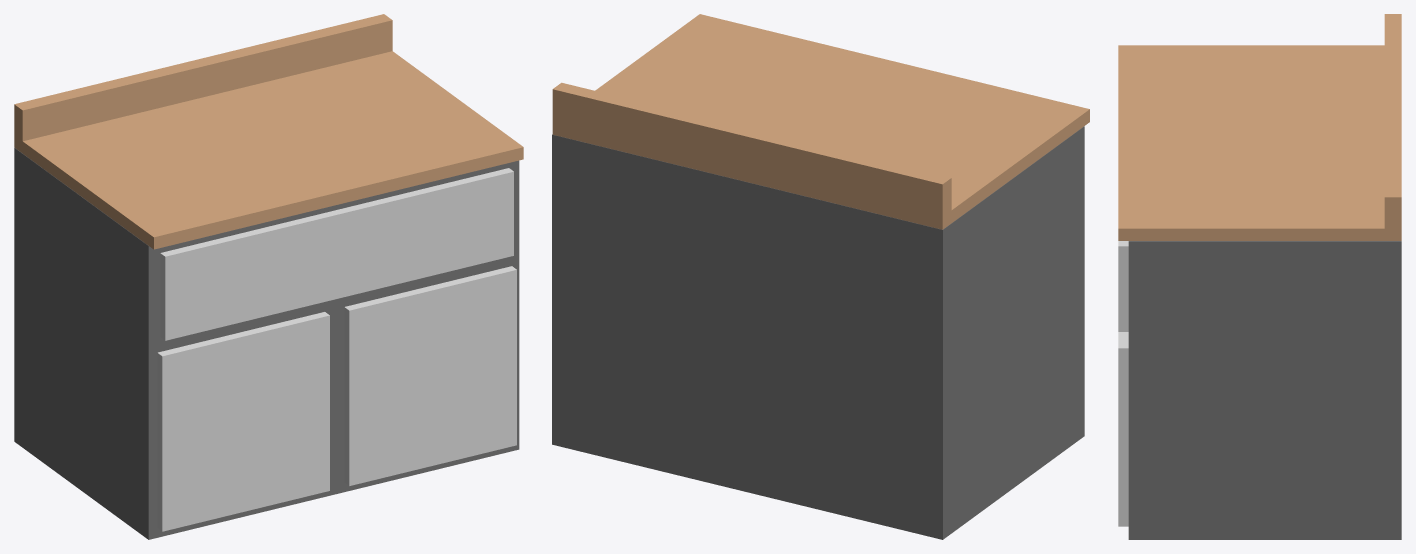
Rendered from Counter2.fbx.
3 renders of one model, left to right at view 1: azimuth 30°, elevation 25°; view 2: azimuth 150°, elevation 25°; view 3: azimuth 270°, elevation 25°, orthographic. The views are drawn at different scales.
Visible parts, largest first — view 1: Cube.009; view 2: Cube.009; view 3: Cube.009.
Part boxes in pixels (x1,y1,x2,y2): Cube.009: (14, 14, 523, 539); Cube.009: (552, 14, 1089, 539); Cube.009: (1118, 14, 1401, 539).
Size of the model in its own units: 400 by 348 by 261.
